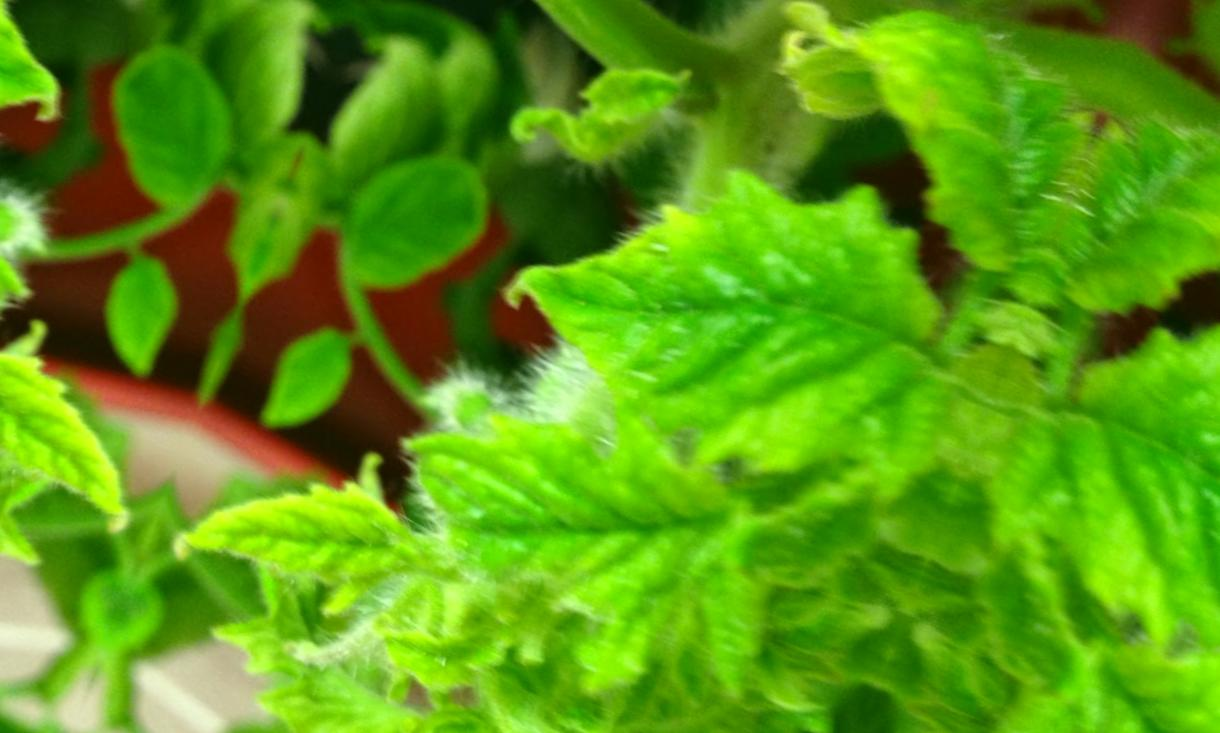Tomato leaf yellow virus: (470, 62, 1051, 525), (308, 326, 846, 703), (689, 0, 1117, 292)
